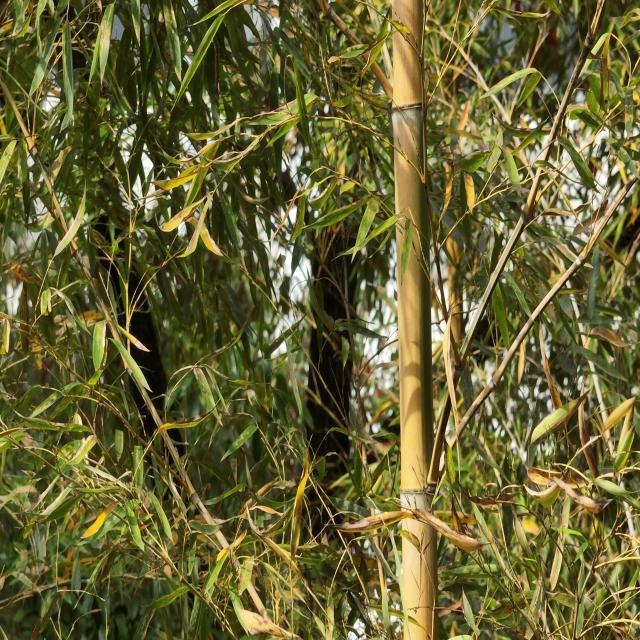Bamboo-shoots: (392, 0, 438, 640)
